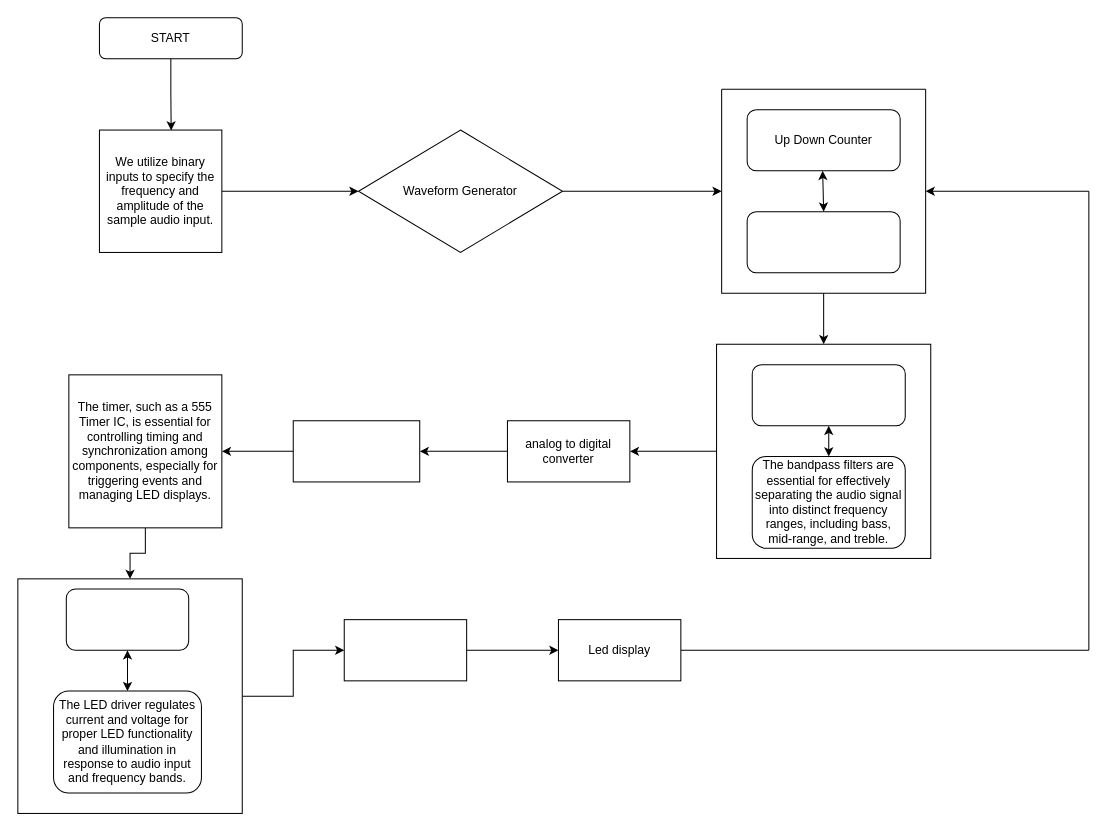
This 1115x831 diagram has some shape labels left out. The centre of each missing label's shape, as x and y in pixels:
"comparator" belongs at point 356,451.
"Decoder (4-16 bit)" belongs at point 405,650.
"Enhancing weak signals and reducing noise for further processing." belongs at point 828,395.
"LED Drivers" belongs at point 127,619.
"To alter the amplitude and visualize various waveforms" belongs at point 823,242.
